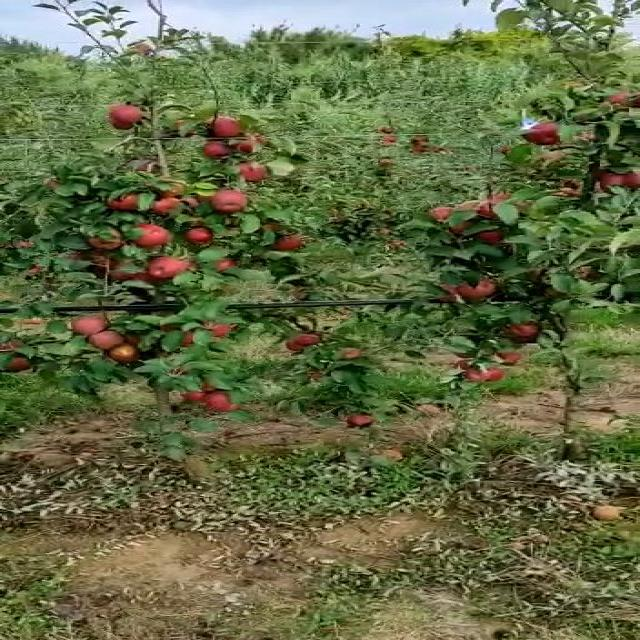100-_ripeness: (146, 254, 189, 280), (596, 172, 640, 196), (451, 279, 502, 298), (209, 115, 251, 138), (526, 122, 566, 145), (109, 103, 144, 129), (213, 191, 251, 213), (129, 224, 167, 245), (105, 192, 144, 212), (85, 226, 120, 248), (200, 390, 238, 410), (469, 200, 506, 219), (85, 333, 122, 352), (109, 344, 144, 364), (75, 312, 107, 333), (467, 364, 502, 383), (266, 234, 306, 250), (233, 136, 267, 152), (240, 160, 265, 181), (205, 139, 231, 159), (425, 204, 453, 221), (154, 198, 182, 215), (184, 226, 211, 243), (474, 228, 504, 243), (285, 338, 313, 350), (512, 323, 534, 337)
